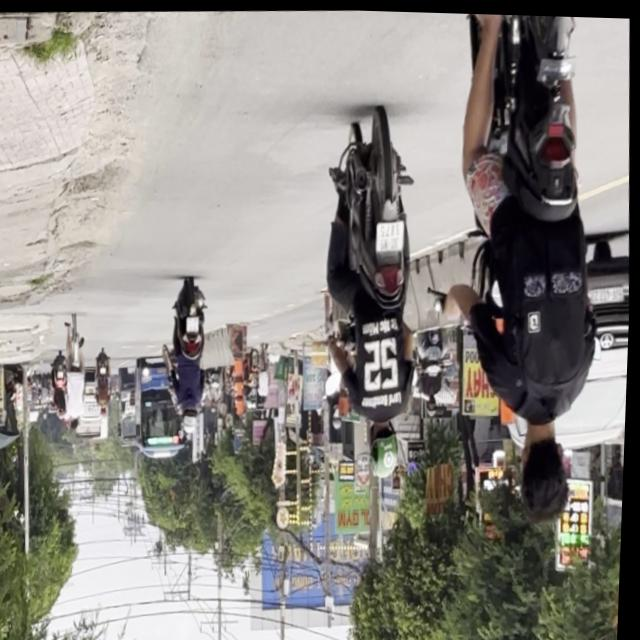helmet: (368, 418, 404, 477)
licenseplate: (425, 10, 614, 527), (314, 105, 434, 485)
motorcyclist: (516, 416, 577, 523)
nohelmet: (376, 217, 406, 251)
